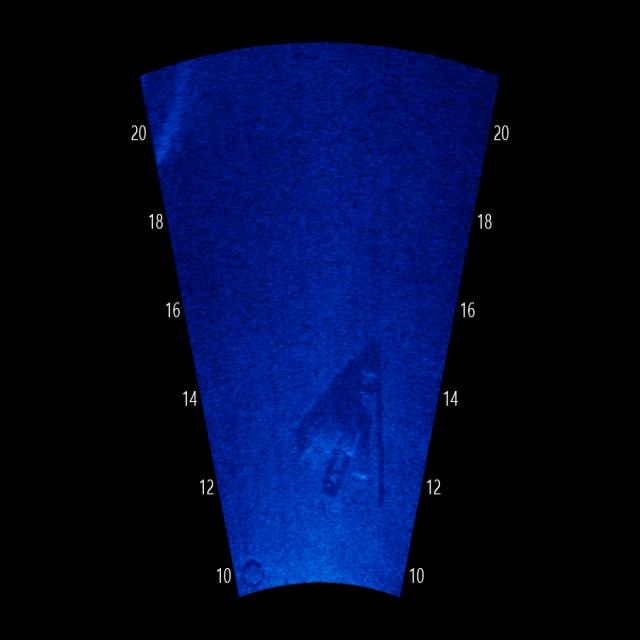triangle: (288, 333, 400, 530)
